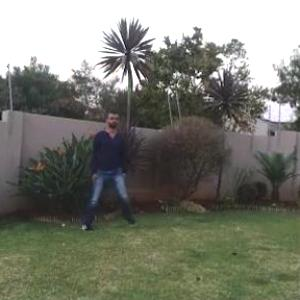follow: (90, 103, 126, 227)
